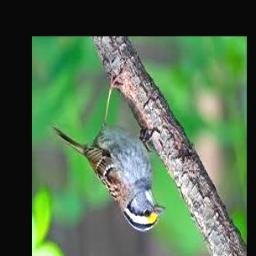Sparrow: (51, 69, 165, 232)
